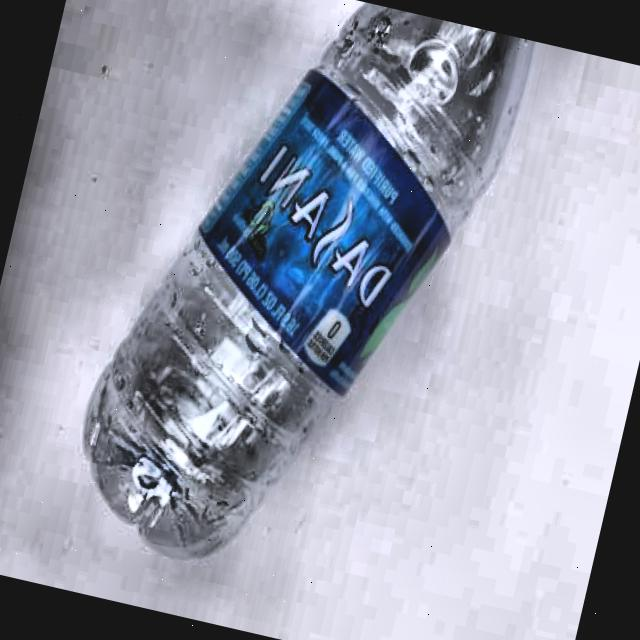plastic: (62, 0, 538, 606)
